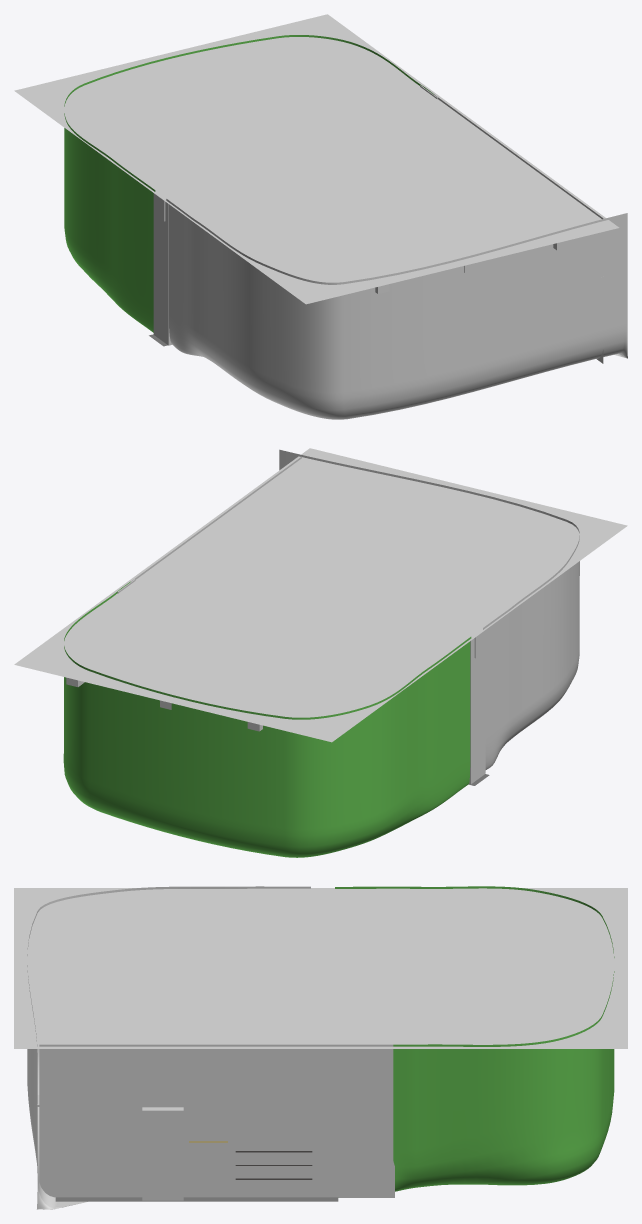
The model's file is room.FBX.
3 views of the same model, one above another, from view 1: azimuth 30°, elevation 25°; view 2: azimuth 150°, elevation 25°; view 3: azimuth 270°, elevation 25° (orthographic). The views are drawn at different scales.
Parts seen in each view (by area): view 1: Ceiling, Walls, Walls_2, Ceiling_Column_Vertical, Ceiling_Column_Horizontal, DividingPillar; view 2: Ceiling, Walls_2, Walls, Ceiling_Column_Vertical, Ceiling_Column_Horizontal, DividingPillar; view 3: Ceiling, Wall_East, Walls_2, Door, Ceiling_Column_Vertical, Ceiling_Column_Horizontal, Walls, Floor_Foyeur.
Part boxes in pixels (x1,y1,x2,y2): Ceiling: (14,14,619,304); Walls: (166,199,627,419); Walls_2: (64,35,433,332); Ceiling_Column_Vertical: (99,73,389,293); Ceiling_Column_Horizontal: (156,119,472,221); DividingPillar: (153,193,172,345); Ceiling: (14,448,627,742); Walls_2: (63,581,471,857); Walls: (279,449,579,769); Ceiling_Column_Vertical: (247,509,542,731); Ceiling_Column_Horizontal: (162,554,483,658); DividingPillar: (469,630,485,784); Ceiling: (14,888,627,1048); Wall_East: (39,1044,394,1197); Walls_2: (335,886,614,1191); Door: (142,1107,183,1200); Ceiling_Column_Vertical: (26,928,614,933); Ceiling_Column_Horizontal: (312,888,328,1069); Walls: (27,886,310,1209); Floor_Foyeur: (55,1197,338,1201).
Size of the model in its own units: 886 by 368 by 1333.
